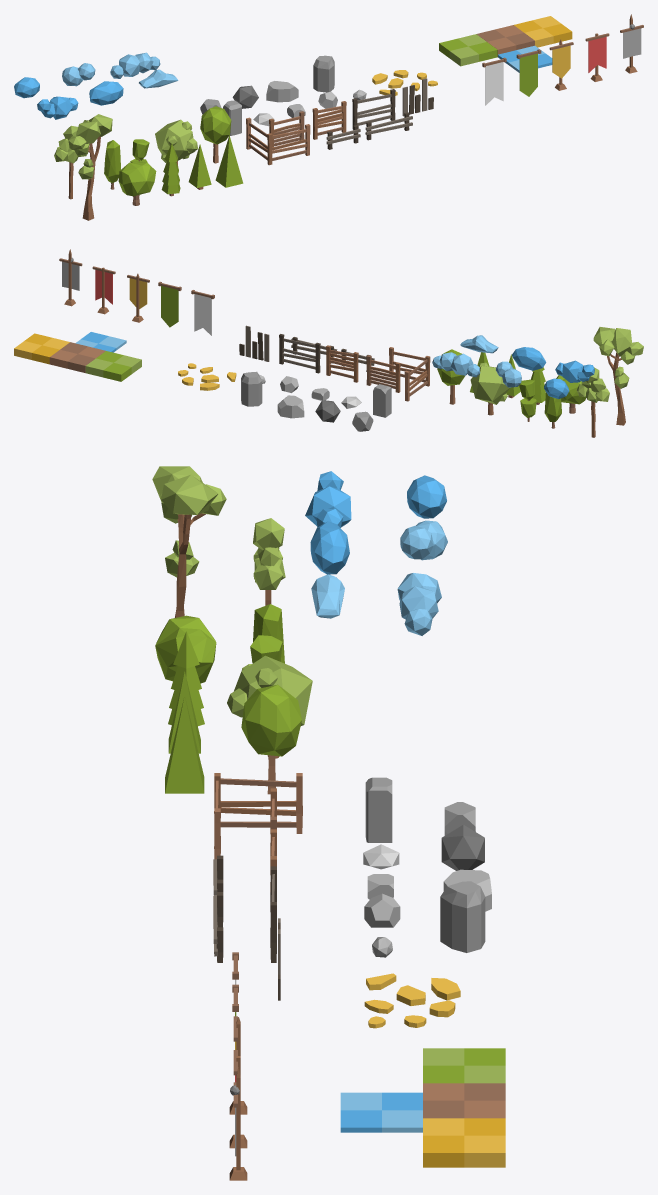
Rendered from nature.fbx.
The picture shows the model from 3 angles, top to bottom: view 1: azimuth 30°, elevation 25°; view 2: azimuth 150°, elevation 25°; view 3: azimuth 270°, elevation 25°; orthographic projection. The views are drawn at different scales.
Visible parts, largest first — view 1: tree_5, green, tree_7, tree_4, sand, tree_6, earth, cloud_6, tree_1, stone_9, Cube_3_2, tree_10 (+18 smaller); view 2: tree_5, green, tree_7, earth, sand, tree_10, cloud_6, stone_9, Cube_3_2, cloud_3, stone_2, Cube_3_3 (+17 smaller); view 3: tree_5, sand, tree_6, watter, earth, green, stone_9, tree_7, stone_2, tree_4, tree_1, cloud_6 (+11 smaller).
Part boxes in pixels (left/top/right/bottom): tree_5: left=68, top=114, right=112, bottom=220; green: left=439, top=34, right=497, bottom=66; tree_7: left=155, top=119, right=197, bottom=166; tree_4: left=118, top=161, right=156, bottom=205; sand: left=514, top=16, right=572, bottom=47; tree_6: left=200, top=106, right=231, bottom=163; earth: left=476, top=25, right=534, bottom=56; cloud_6: left=110, top=52, right=160, bottom=78; tree_1: left=215, top=135, right=243, bottom=187; stone_9: left=313, top=55, right=334, bottom=92; Cube_3_2: left=519, top=53, right=537, bottom=96; tree_10: left=54, top=125, right=86, bottom=199; tree_5: left=593, top=327, right=643, bottom=425; green: left=85, top=351, right=141, bottom=381; tree_7: left=470, top=362, right=509, bottom=415; earth: left=49, top=342, right=105, bottom=372; sand: left=14, top=333, right=69, bottom=364; tree_10: left=576, top=367, right=609, bottom=437; cloud_6: left=432, top=352, right=480, bottom=377; stone_9: left=241, top=371, right=262, bottom=406; Cube_3_2: left=161, top=286, right=178, bottom=327; cloud_3: left=555, top=360, right=594, bottom=382; stone_2: left=178, top=363, right=236, bottom=390; Cube_3_3: left=194, top=294, right=211, bottom=335; tree_5: left=152, top=466, right=226, bottom=617; sand: left=423, top=1118, right=505, bottom=1167; tree_6: left=241, top=684, right=301, bottom=794; watter: left=340, top=1092, right=422, bottom=1132; earth: left=423, top=1083, right=505, bottom=1118; green: left=423, top=1048, right=505, bottom=1083; stone_9: left=440, top=881, right=485, bottom=952; tree_7: left=227, top=655, right=312, bottom=758; stone_2: left=364, top=973, right=460, bottom=1028; tree_4: left=155, top=615, right=216, bottom=683; tree_1: left=165, top=696, right=204, bottom=793; cloud_6: left=397, top=573, right=441, bottom=635.
Bounding box in the file's own units: 5530 × 881 × 1494.
Materials: 1 (1 with a texture image).
